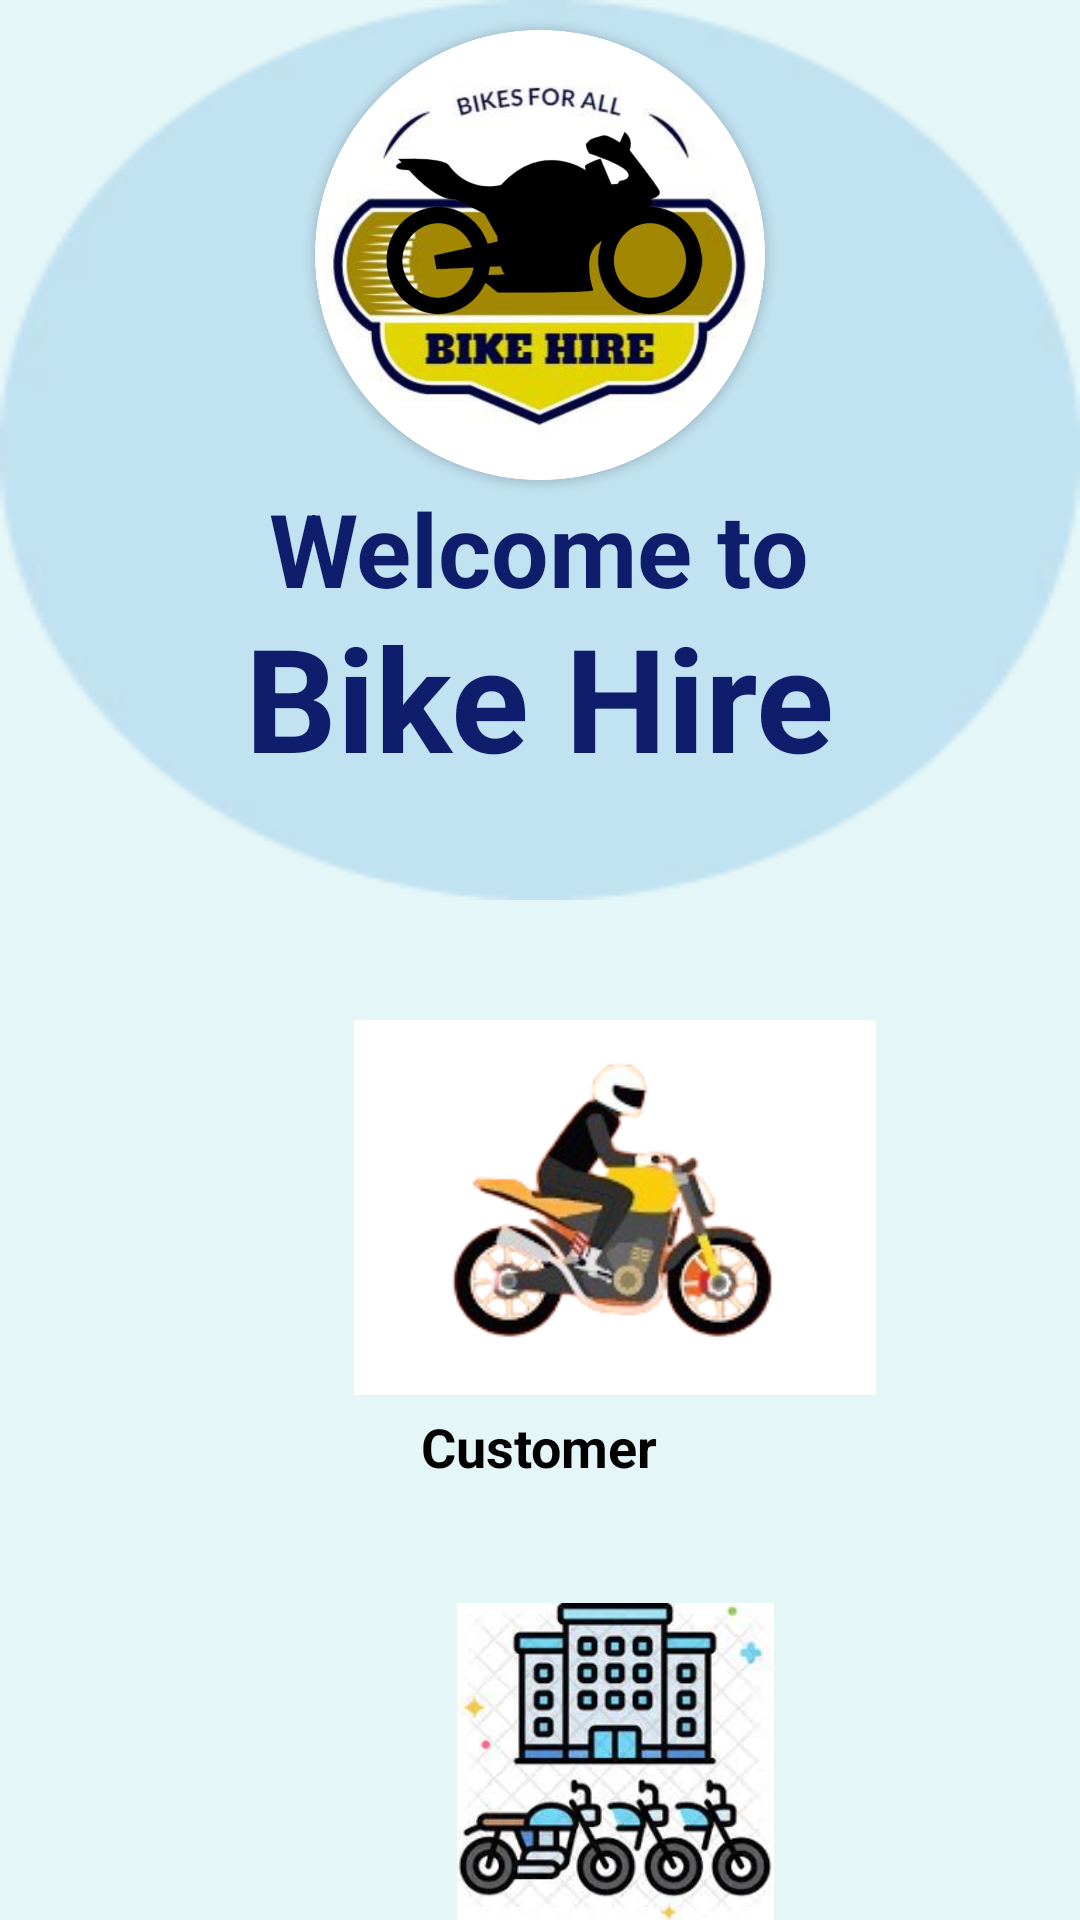

Icon bounding boxes for this 1080*1920 phone screenshot, format (x1, y1, x2, y2):
company: (457, 1603, 774, 1920)
